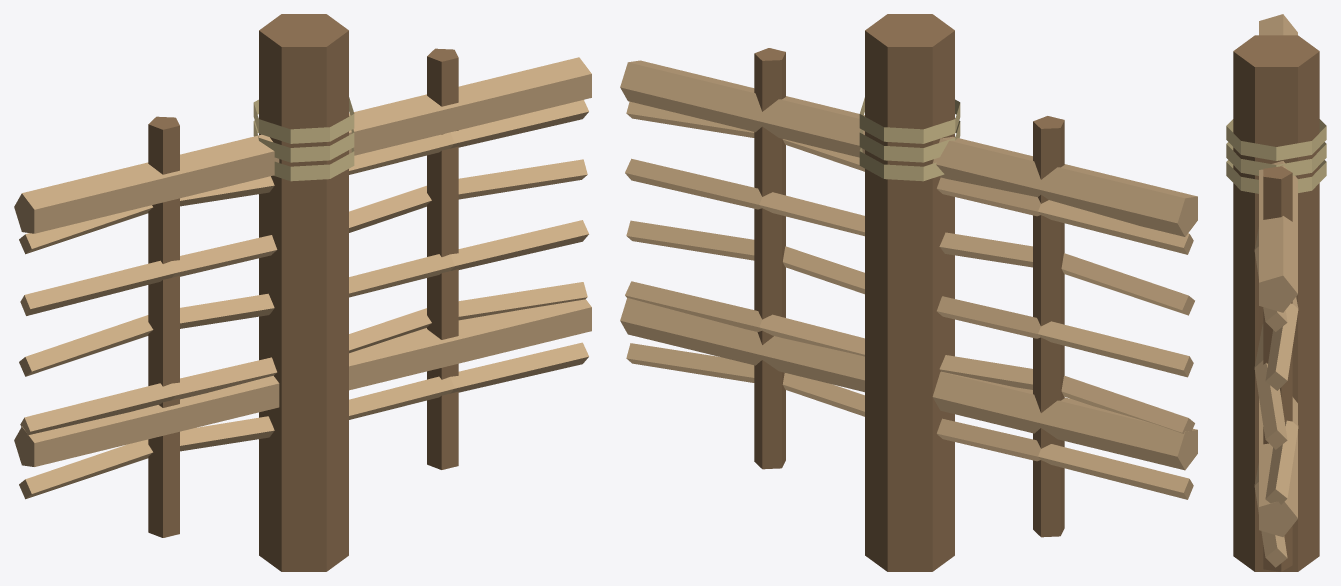
The model's file is pen_fence_0a.glb.
3 renders of one model, left to right at view 1: azimuth 30°, elevation 25°; view 2: azimuth 150°, elevation 25°; view 3: azimuth 270°, elevation 25°, orthographic. The views are drawn at different scales.
Visible parts, largest first — view 1: pen_fence_0a; view 2: pen_fence_0a; view 3: pen_fence_0a.
Part boxes in pixels (x1,y1,x2,y2): pen_fence_0a: [14, 14, 591, 571]; pen_fence_0a: [620, 14, 1197, 571]; pen_fence_0a: [1226, 14, 1326, 571].
Bounding box in the file's own units: 1 × 0.9 × 0.162.
